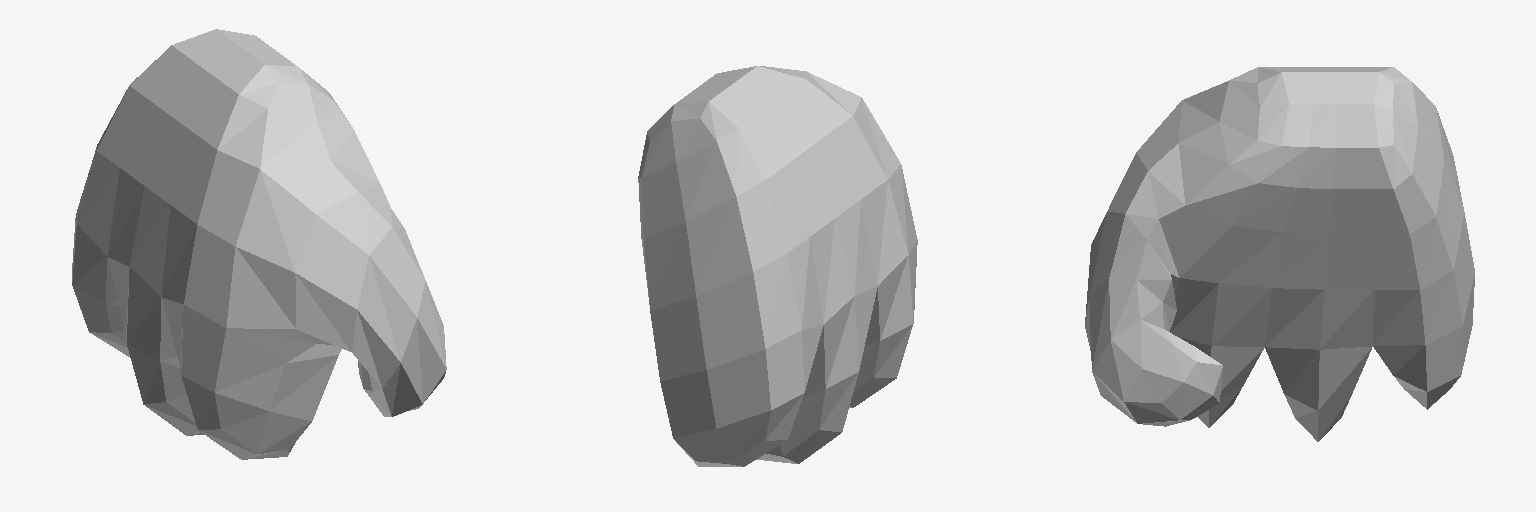
File: player_l_hand.obj
The picture shows the model from 3 angles: view 1: azimuth 30°, elevation 25°; view 2: azimuth 150°, elevation 25°; view 3: azimuth 270°, elevation 25°; orthographic projection.
Visible parts, largest first — view 1: Box004; view 2: Box004; view 3: Box004.
Part boxes in pixels (left/top/right/bottom): Box004: left=72, top=29, right=446, bottom=459; Box004: left=638, top=66, right=917, bottom=466; Box004: left=1085, top=67, right=1474, bottom=441.
Bounding box in the file's own units: 5.03 × 8.22 × 7.72.